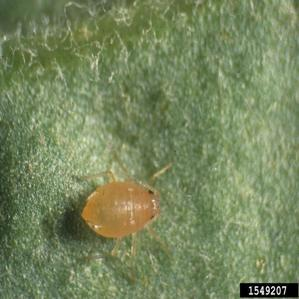Green peach aphid: (55, 134, 194, 271)
